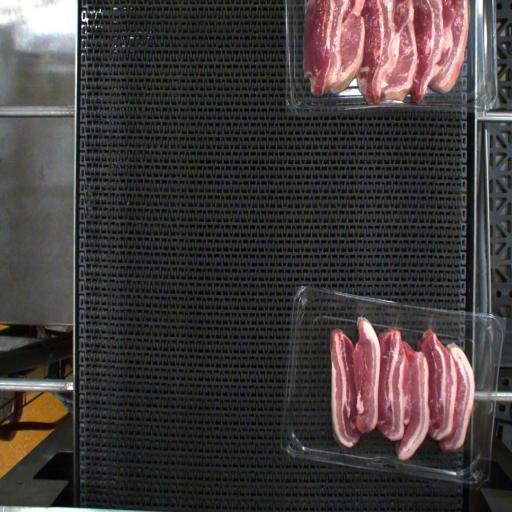packaging-error: (423, 306, 436, 337)
